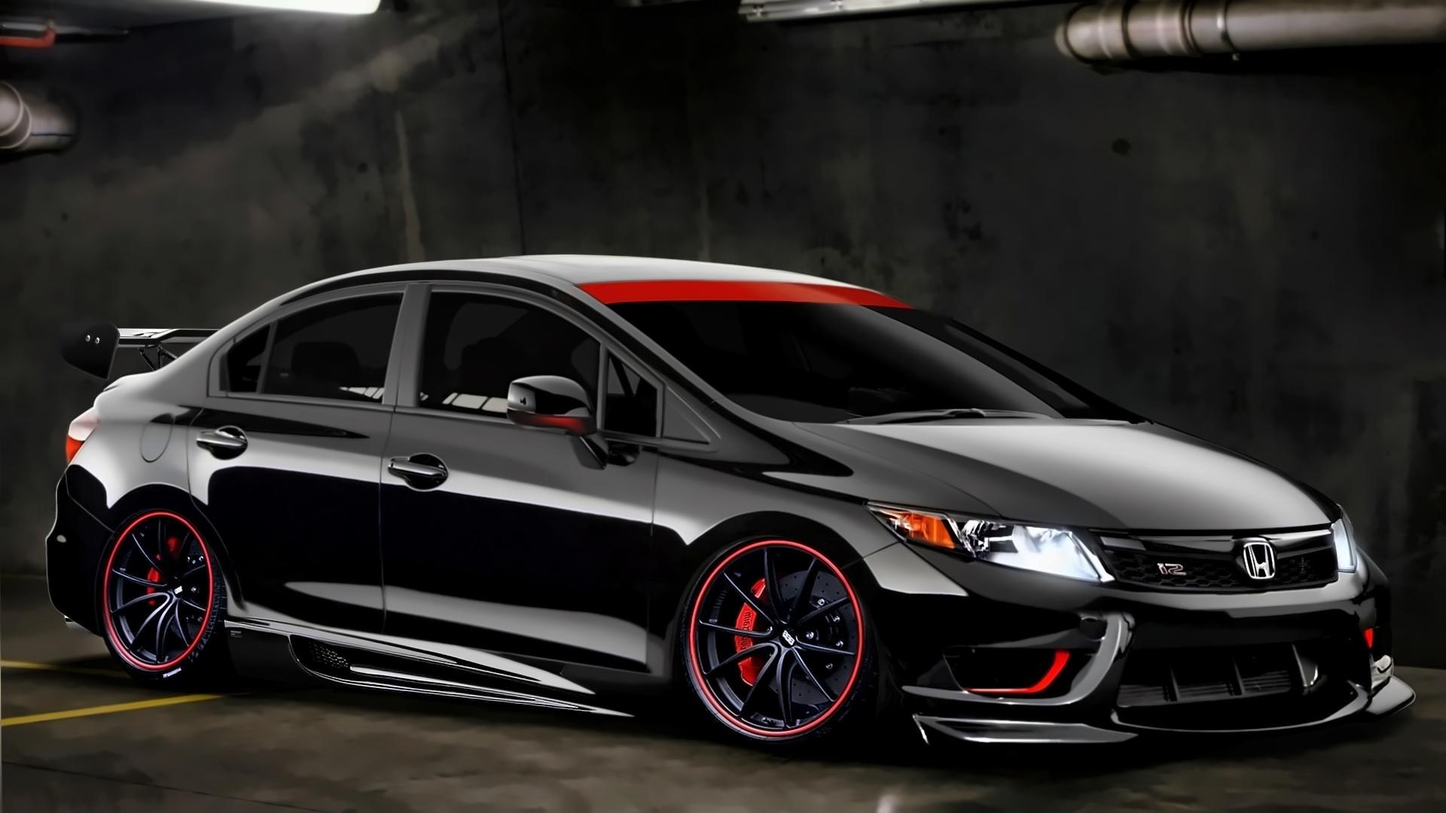Car hood: (787, 414, 1355, 535)
Driver-s door - -F-R-: (388, 263, 669, 672)
Fender - -F-R-: (635, 415, 907, 740)
Fender - -R-R-: (60, 376, 247, 650)
Front bumper: (840, 540, 1429, 777)
Headlight - -L-: (1322, 499, 1379, 585)
Headlight - -R-: (857, 488, 1121, 595)
Passenger-s door - -R-R-: (188, 262, 393, 646)
Rear bumper: (41, 474, 123, 655)
Rear light - -R-: (47, 392, 120, 462)
Side bumper - -R-: (205, 612, 690, 725)
Side mirror - -R-: (495, 360, 613, 455)
